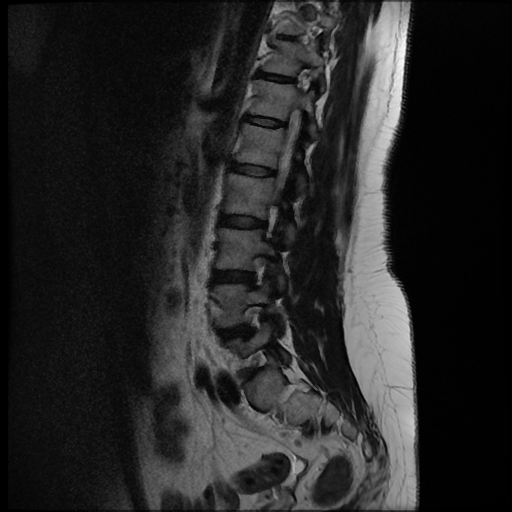LFS0: (231, 294, 272, 344), (238, 245, 277, 294)
